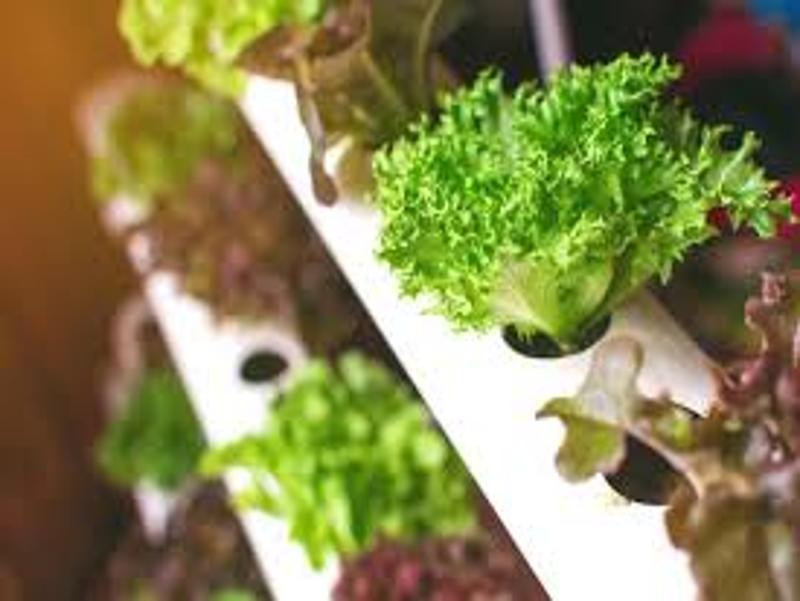green lettuce: (387, 53, 786, 336), (245, 353, 471, 552)
red lettuce: (553, 268, 800, 596)
